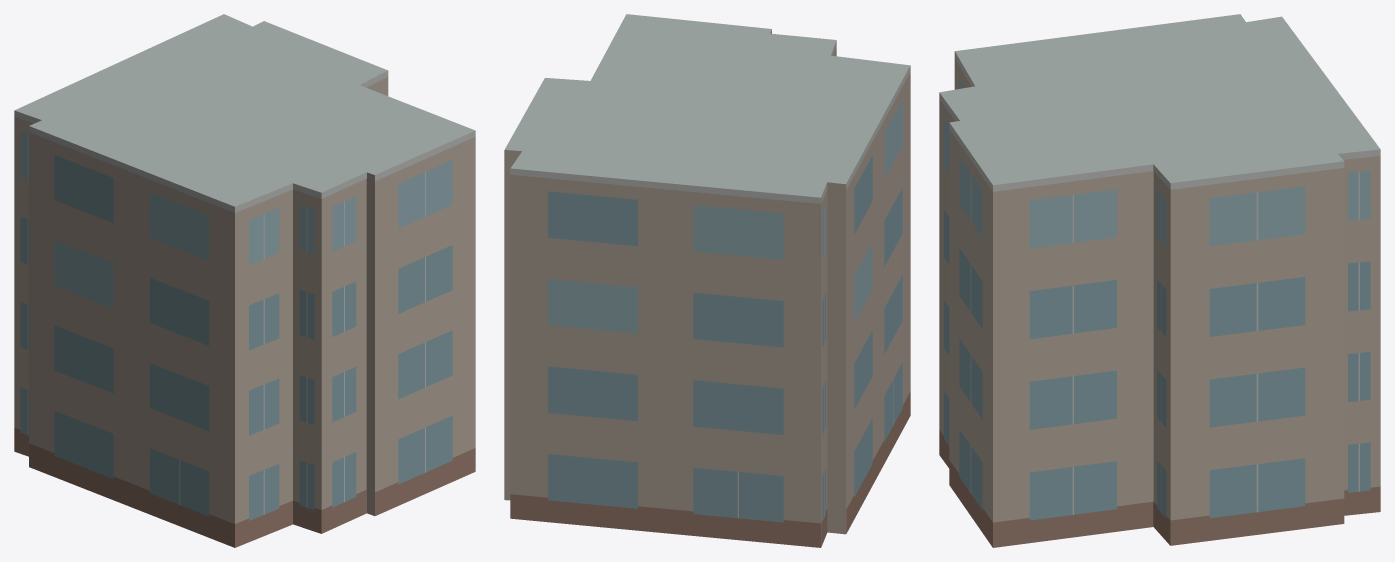
The model's file is survey-upis-32620949.glb.
The picture shows the model from 3 angles, left to right: view 1: azimuth 30°, elevation 25°; view 2: azimuth 150°, elevation 25°; view 3: azimuth 270°, elevation 25°; orthographic projection. The views are drawn at different scales.
Visible parts, largest first — view 1: survey-upis-32620949.tmp; view 2: survey-upis-32620949.tmp; view 3: survey-upis-32620949.tmp.
Part boxes in pixels (x1,y1,x2,y2): survey-upis-32620949.tmp: [14, 14, 475, 547]; survey-upis-32620949.tmp: [504, 14, 910, 547]; survey-upis-32620949.tmp: [939, 14, 1380, 547].
Bounding box in the file's own units: 13.69 × 13.5 × 14.9.
